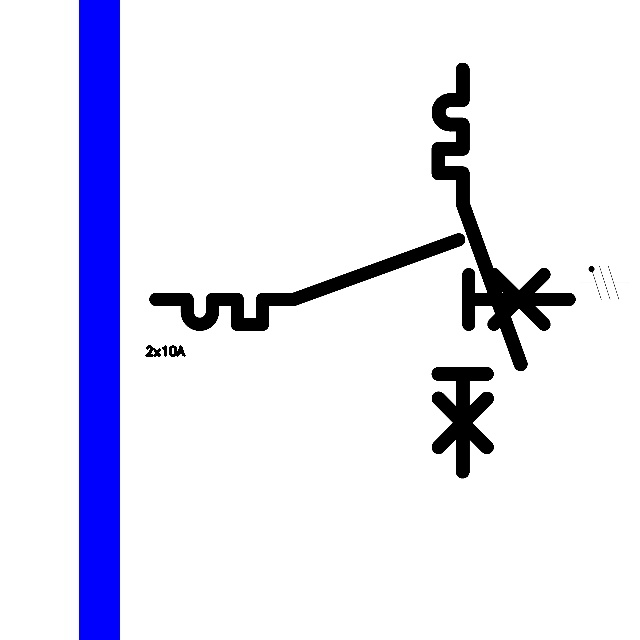interruptor_termomagnetico: (145, 229, 580, 335), (428, 59, 531, 481)
